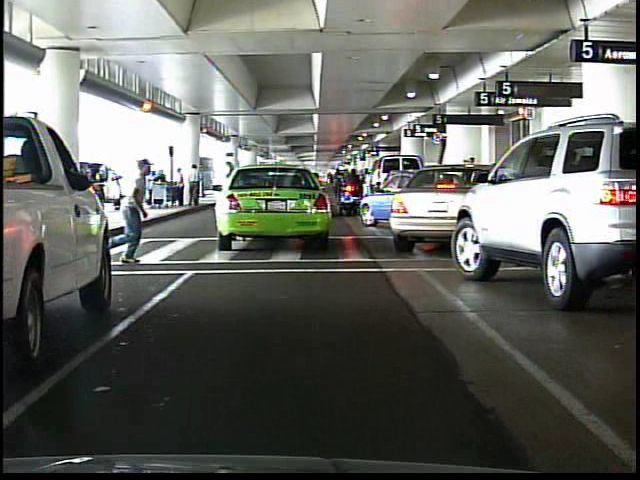person: (114, 153, 166, 271)
